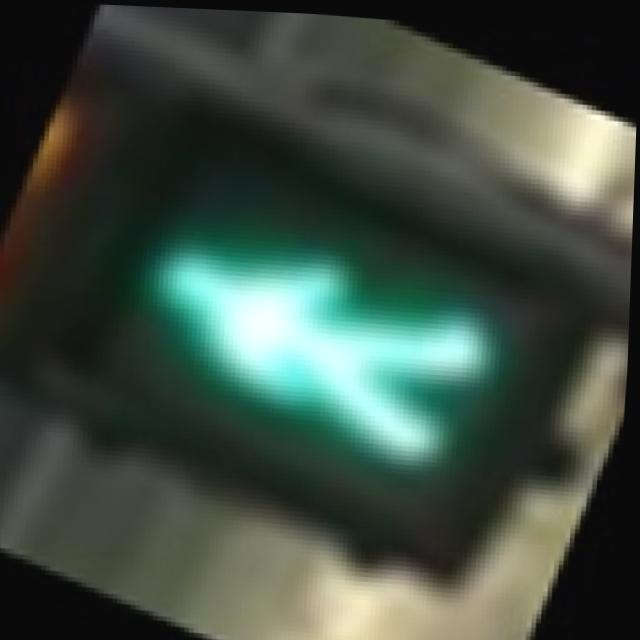green_light: (51, 90, 585, 564)
